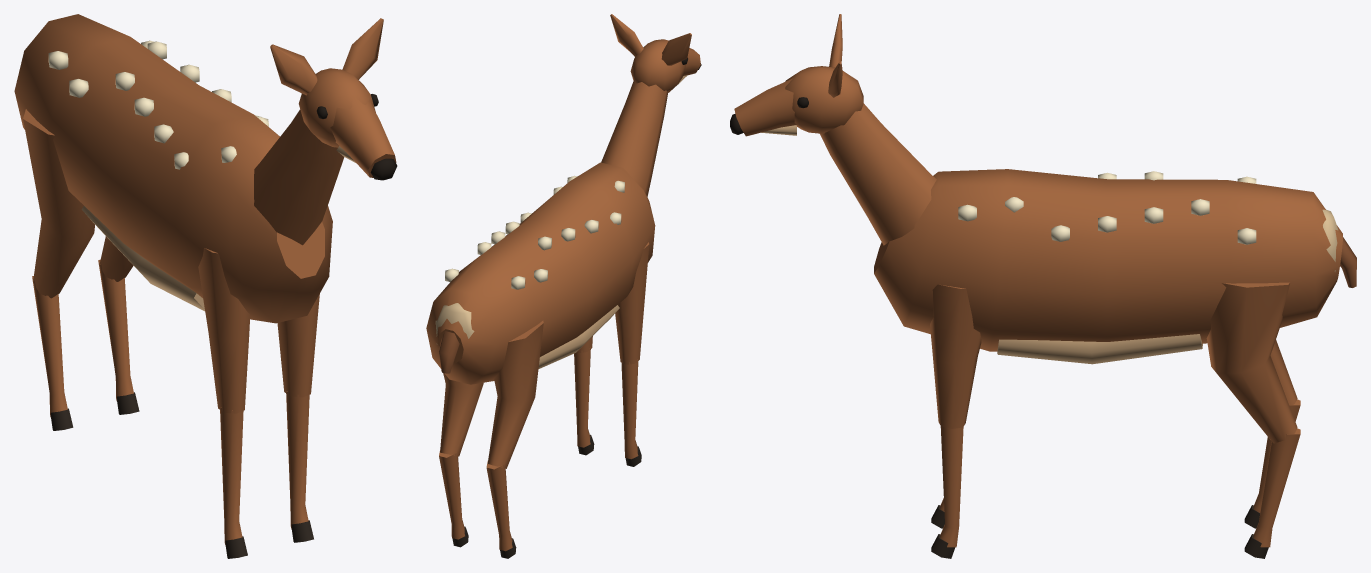
File: animal_deer_fawn.glb
3 renders of one model, left to right at view 1: azimuth 30°, elevation 25°; view 2: azimuth 150°, elevation 25°; view 3: azimuth 270°, elevation 25°, orthographic. The views are drawn at different scales.
Parts seen in each view (by area): view 1: body, neck, legU_BR, head, legU_FR, legL_FL, legL_FR, legU_FL, legL_BL, legL_BR, ear_R, ear_L (+1 smaller); view 2: body, legU_BR, neck, legU_FR, legU_BL, head, legL_FR, legL_FL, legL_BL, legL_BR, ear_R, tail (+1 smaller); view 3: body, legU_BL, neck, head, legU_FL, legL_BL, legL_FL, legL_BR.
Boxes of the visible parts, bbox=[...] form: body: bbox=[14, 14, 332, 323]; neck: bbox=[254, 109, 344, 245]; legU_BR: bbox=[23, 109, 94, 298]; head: bbox=[298, 68, 397, 180]; legU_FR: bbox=[198, 248, 250, 413]; legL_FL: bbox=[286, 391, 313, 542]; legL_FR: bbox=[220, 407, 247, 558]; legU_FL: bbox=[277, 294, 319, 397]; legL_BL: bbox=[98, 259, 139, 414]; legL_BR: bbox=[32, 276, 73, 430]; ear_R: bbox=[270, 44, 317, 95]; ear_L: bbox=[342, 18, 383, 79]; body: bbox=[426, 162, 655, 384]; legU_BR: bbox=[487, 320, 543, 468]; neck: bbox=[601, 79, 667, 196]; legU_FR: bbox=[615, 242, 649, 364]; legU_BL: bbox=[440, 373, 483, 456]; head: bbox=[630, 39, 701, 92]; legL_FR: bbox=[621, 359, 641, 466]; legL_FL: bbox=[574, 347, 594, 455]; legL_BL: bbox=[439, 450, 468, 547]; legL_BR: bbox=[486, 461, 516, 558]; ear_R: bbox=[661, 33, 691, 65]; tail: bbox=[438, 331, 459, 373]; body: bbox=[874, 169, 1342, 364]; legU_BL: bbox=[1206, 282, 1297, 443]; neck: bbox=[820, 103, 936, 245]; head: bbox=[730, 66, 863, 136]; legU_FL: bbox=[930, 284, 981, 428]; legL_BL: bbox=[1244, 428, 1300, 558]; legL_FL: bbox=[931, 426, 963, 558]; legL_BR: bbox=[1244, 399, 1300, 528].
Bounding box in the file's own units: 0.2706 × 1.08 × 1.21.
